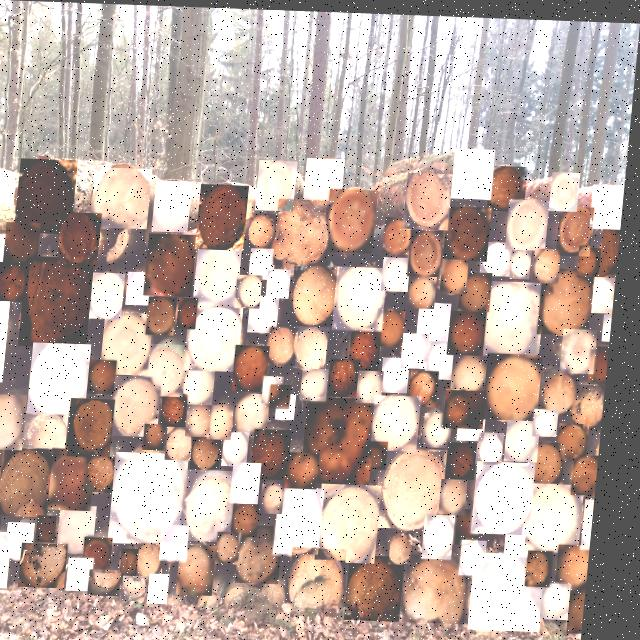wood-log: (118, 451, 198, 544), (25, 256, 100, 347), (309, 394, 385, 482), (480, 548, 557, 627), (385, 444, 457, 526), (325, 481, 391, 561), (487, 277, 551, 356), (481, 457, 545, 531), (35, 342, 98, 417), (19, 158, 81, 234), (415, 551, 482, 620), (190, 468, 248, 540), (490, 349, 550, 417), (278, 197, 338, 265), (535, 479, 594, 548), (356, 552, 416, 618), (191, 303, 250, 370), (94, 166, 156, 228), (7, 448, 62, 517), (543, 264, 599, 331), (299, 546, 357, 609), (338, 264, 393, 329), (200, 182, 253, 249), (284, 485, 334, 554), (329, 186, 382, 250), (107, 311, 160, 374), (149, 232, 202, 295), (118, 374, 170, 436), (295, 263, 345, 325), (57, 449, 106, 510), (407, 170, 456, 229), (75, 397, 123, 456), (247, 522, 294, 582), (379, 392, 429, 448), (198, 248, 247, 305), (448, 203, 496, 258), (28, 413, 77, 463), (149, 342, 194, 395), (63, 211, 107, 265), (30, 542, 79, 588), (454, 145, 498, 196), (510, 195, 553, 247), (306, 155, 348, 206), (260, 427, 302, 478), (259, 158, 301, 209), (156, 179, 196, 231), (188, 543, 228, 594), (67, 505, 107, 554), (0, 394, 35, 450), (560, 202, 598, 253), (491, 162, 531, 208), (453, 307, 493, 352), (239, 343, 277, 390), (548, 367, 587, 412), (535, 438, 574, 483), (566, 324, 604, 369), (95, 271, 131, 318), (451, 386, 494, 425), (412, 228, 448, 274), (300, 324, 338, 367), (0, 288, 17, 382), (566, 540, 600, 587), (593, 180, 628, 225), (8, 222, 45, 264), (242, 391, 278, 434), (513, 416, 549, 458), (432, 511, 465, 556), (581, 380, 613, 424), (422, 299, 457, 339), (458, 351, 494, 389), (464, 268, 498, 308), (188, 365, 223, 403), (355, 328, 388, 368), (2, 262, 35, 302), (0, 531, 23, 588), (240, 460, 271, 502), (294, 450, 329, 487), (335, 356, 368, 394), (565, 418, 598, 456), (432, 337, 464, 376), (273, 325, 305, 364), (455, 438, 487, 476), (199, 430, 231, 468), (152, 295, 183, 334), (553, 168, 584, 207), (254, 293, 285, 331), (387, 214, 418, 252), (459, 505, 491, 541), (381, 307, 412, 344), (415, 367, 446, 404), (94, 455, 125, 492), (604, 220, 625, 274), (485, 238, 517, 273), (552, 578, 582, 615), (16, 522, 46, 559), (580, 450, 607, 491), (252, 211, 283, 246), (387, 354, 417, 390), (465, 401, 495, 437), (170, 524, 200, 560), (131, 270, 162, 304), (93, 536, 124, 570), (431, 410, 461, 445), (386, 254, 416, 289), (94, 359, 124, 394), (449, 475, 478, 511), (147, 542, 175, 579), (537, 546, 565, 583), (407, 330, 436, 365), (537, 244, 566, 279), (470, 536, 498, 572), (241, 501, 270, 535), (445, 256, 474, 290), (168, 392, 196, 426), (230, 430, 258, 464), (174, 425, 202, 459), (215, 403, 242, 438), (414, 273, 443, 305), (308, 366, 336, 399), (240, 273, 268, 306), (485, 428, 513, 461), (100, 568, 134, 595), (364, 367, 391, 400), (78, 557, 105, 590), (597, 272, 621, 309), (452, 385, 478, 419), (254, 246, 281, 278), (400, 529, 426, 562), (0, 476, 15, 533), (194, 403, 220, 435), (514, 523, 541, 553), (226, 530, 251, 562), (579, 585, 597, 629), (595, 342, 615, 380), (582, 242, 606, 273), (270, 481, 294, 512), (271, 267, 296, 296), (541, 405, 567, 432), (183, 296, 204, 328), (514, 246, 537, 275), (591, 494, 604, 545), (159, 572, 181, 602), (133, 574, 158, 600), (375, 438, 397, 467), (151, 422, 174, 449), (270, 374, 292, 401), (283, 391, 304, 418), (46, 515, 67, 542), (131, 547, 150, 576), (277, 382, 299, 407), (0, 234, 10, 278), (608, 309, 618, 337), (0, 435, 4, 481)
